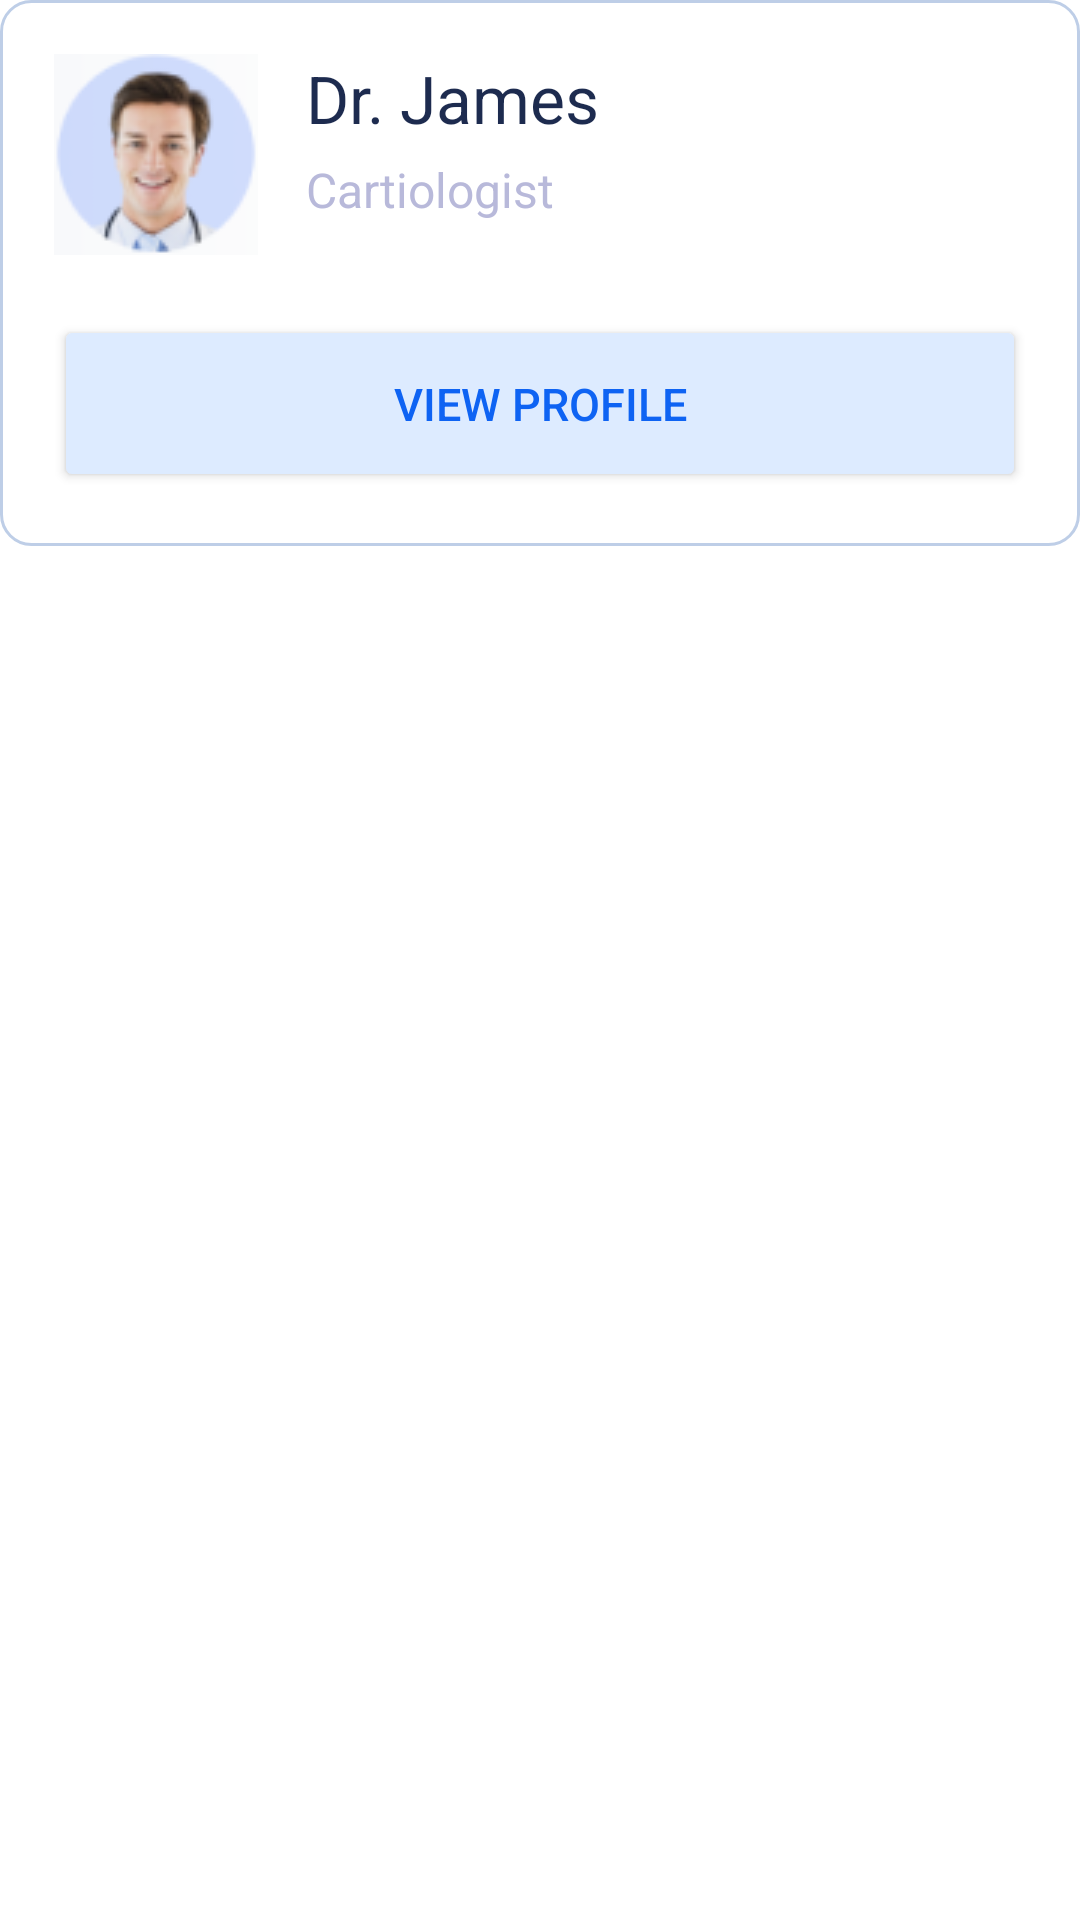

Icons on this 1080 x 1920 Android screen, each with the point to tap as (x=x, y=y):
Doctor image: (x=156, y=154)
